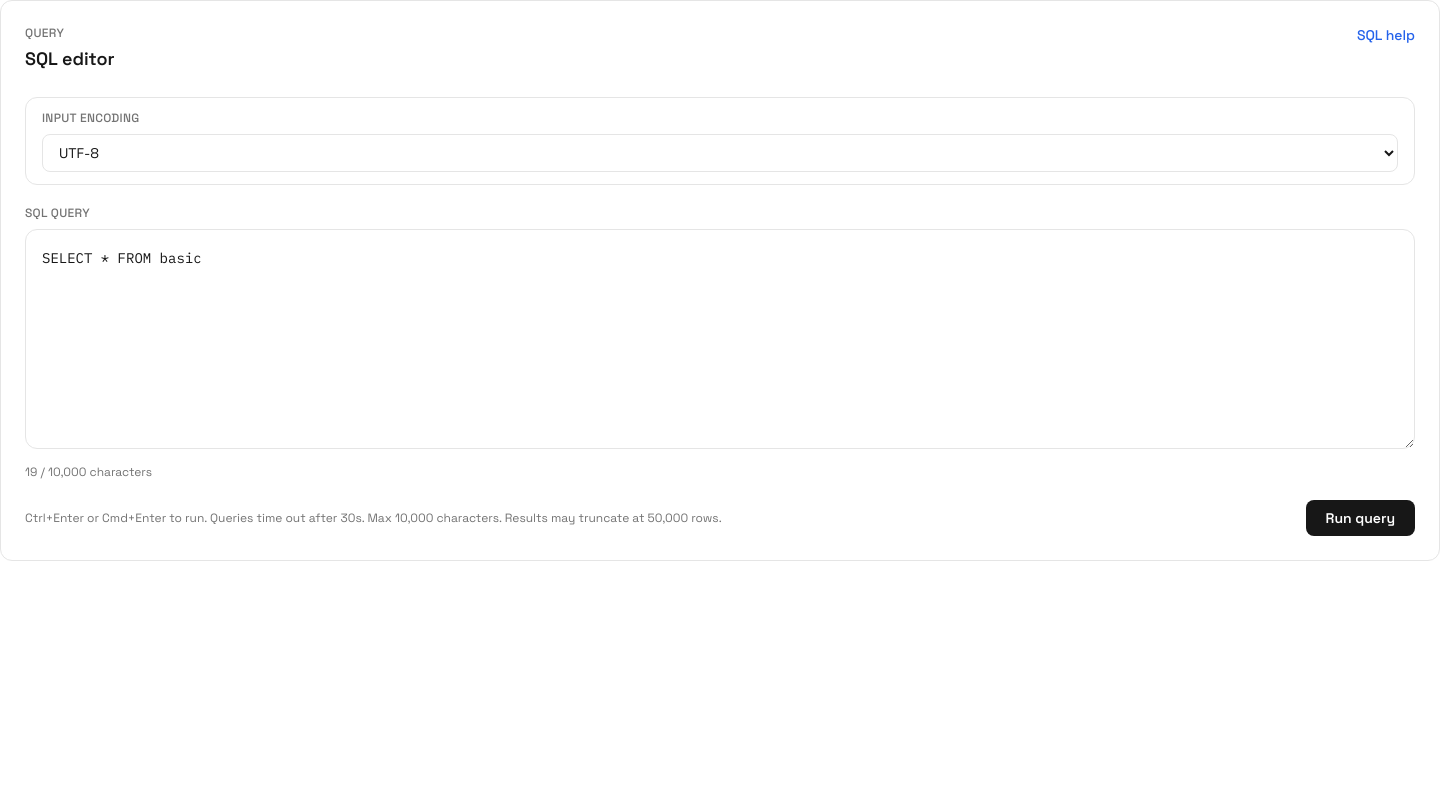
Test case: QueryEditor › shows SQL help when toggled
Click the button "SQL help" at (1386, 35), box [1357,25,1415,45]
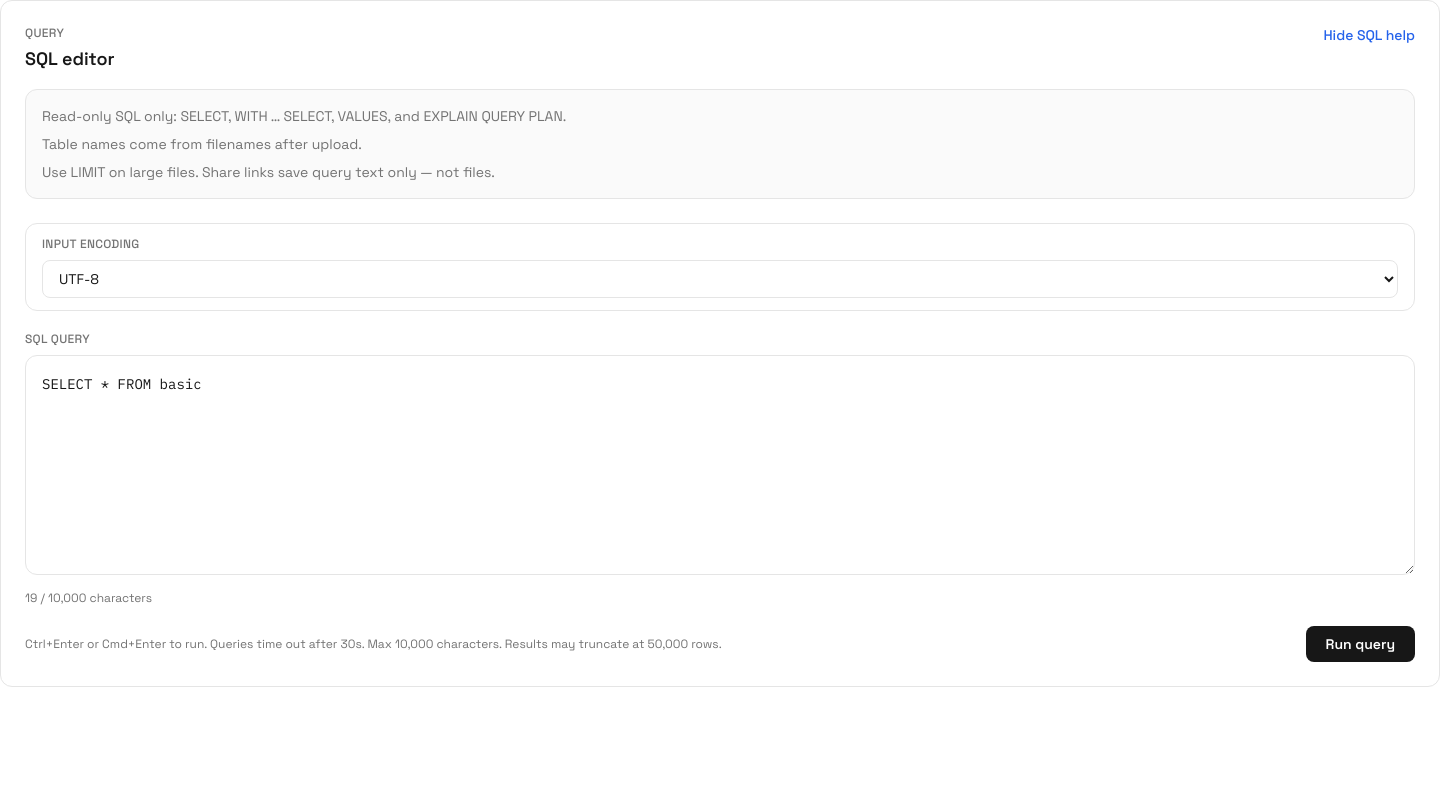
Now the text "Read-only SQL only" is shown, box [42,107,566,125]
